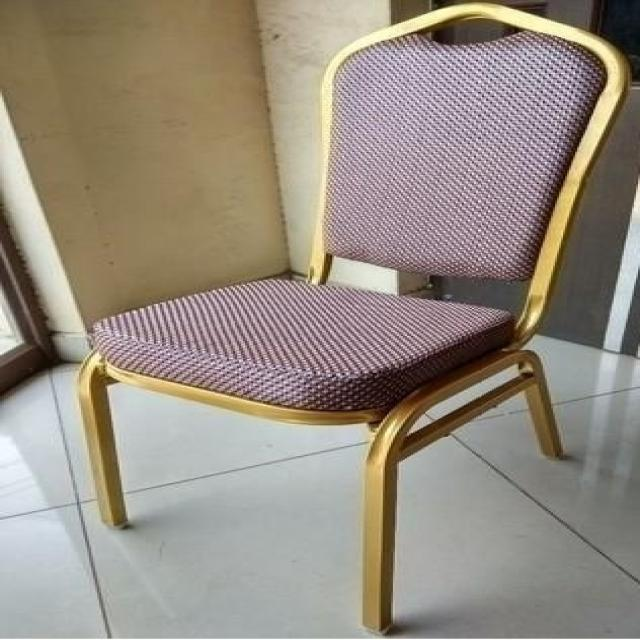chair: (77, 2, 624, 635)
